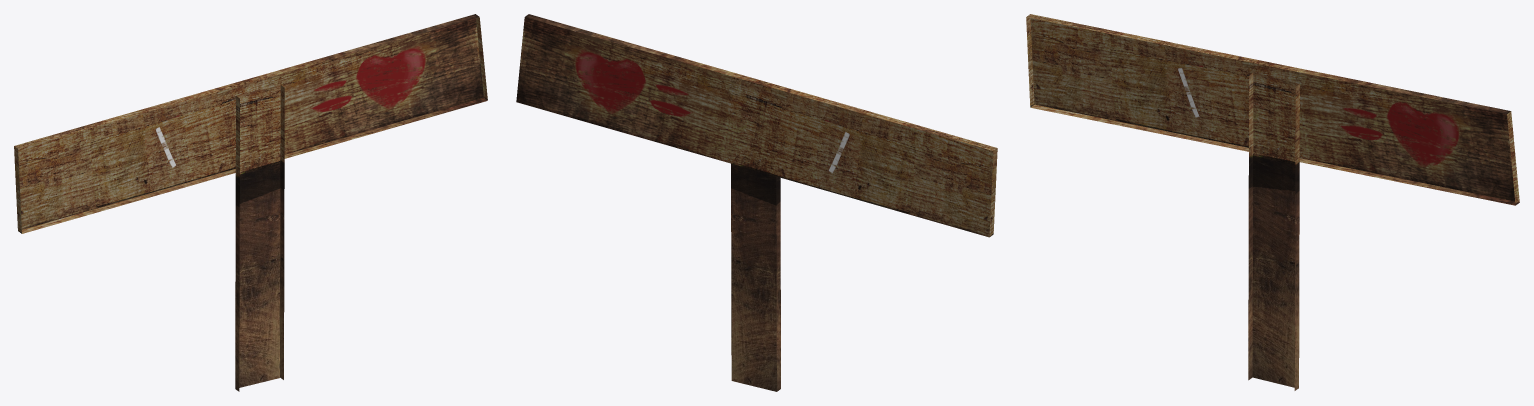
File: raft_sign.fbx
The picture shows the model from 3 angles, left to right: view 1: azimuth 30°, elevation 25°; view 2: azimuth 150°, elevation 25°; view 3: azimuth 330°, elevation 25°; orthographic projection. The views are drawn at different scales.
Parts seen in each view (by area): view 1: raft_sign; view 2: raft_sign; view 3: raft_sign.
Boxes of the visible parts, x1=… form: raft_sign: x1=14, y1=14, x2=487, y2=391; raft_sign: x1=516, y1=14, x2=997, y2=391; raft_sign: x1=1026, y1=14, x2=1519, y2=390.
Bounding box in the file's own units: 1.06 × 0.6736 × 0.0316.
